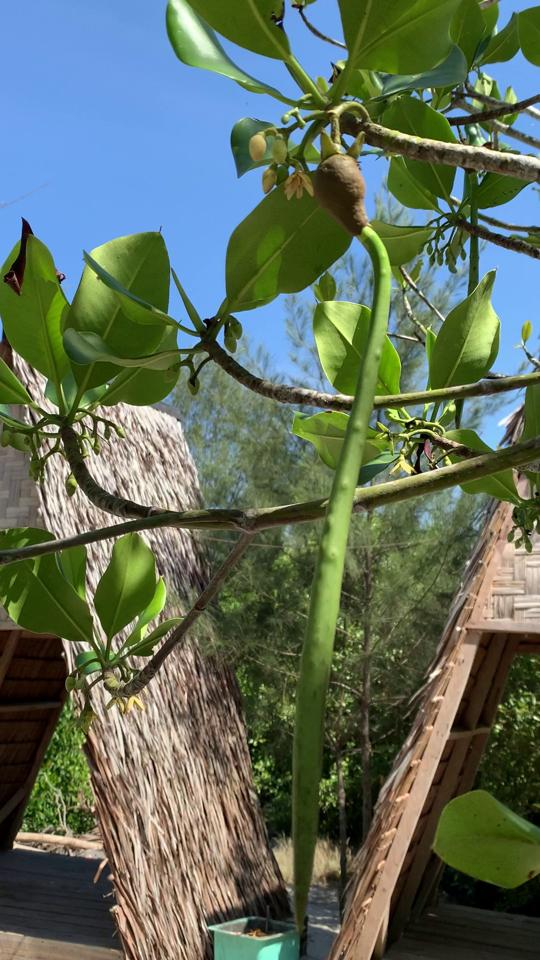setengah matang: (278, 119, 398, 940)
